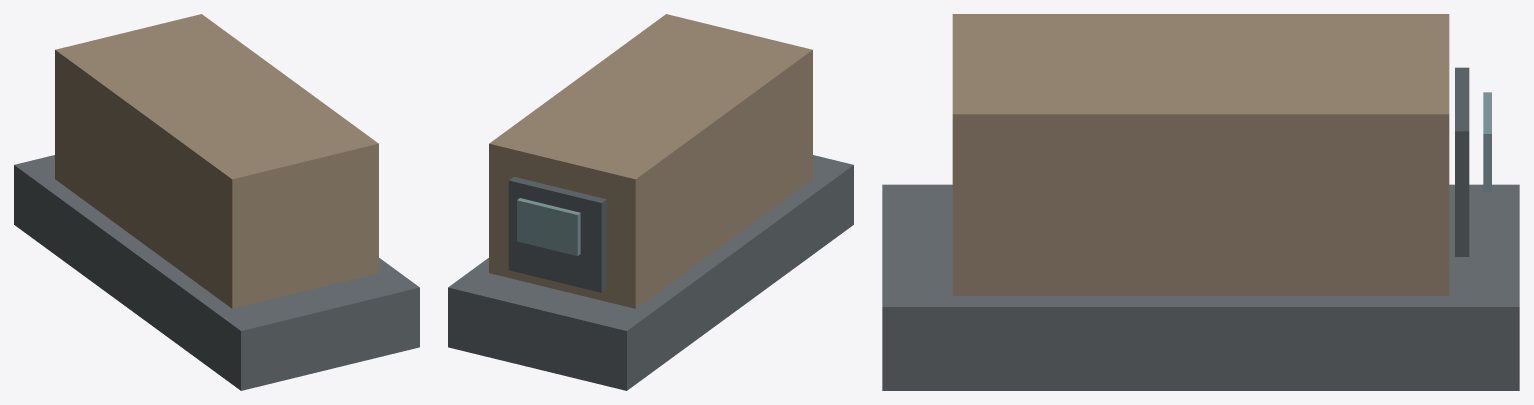
The model's file is iz3_health_bed_02.glb.
3 renders of one model, left to right at view 1: azimuth 30°, elevation 25°; view 2: azimuth 150°, elevation 25°; view 3: azimuth 270°, elevation 25°, orthographic. The views are drawn at different scales.
Parts seen in each view (by area): view 1: cabinet, base; view 2: cabinet, base, panel, display; view 3: cabinet, base, panel, display.
Part boxes in pixels (bbox=[...]): cabinet: bbox=[55, 14, 378, 308]; base: bbox=[14, 155, 419, 390]; cabinet: bbox=[489, 14, 812, 308]; base: bbox=[448, 155, 853, 390]; panel: bbox=[508, 177, 606, 292]; display: bbox=[517, 198, 580, 255]; cabinet: bbox=[952, 14, 1449, 295]; base: bbox=[882, 184, 1519, 390]; panel: bbox=[1455, 67, 1469, 256]; display: bbox=[1483, 92, 1491, 191].
Size of the model in its own units: 1 by 1.01 by 2.2.
